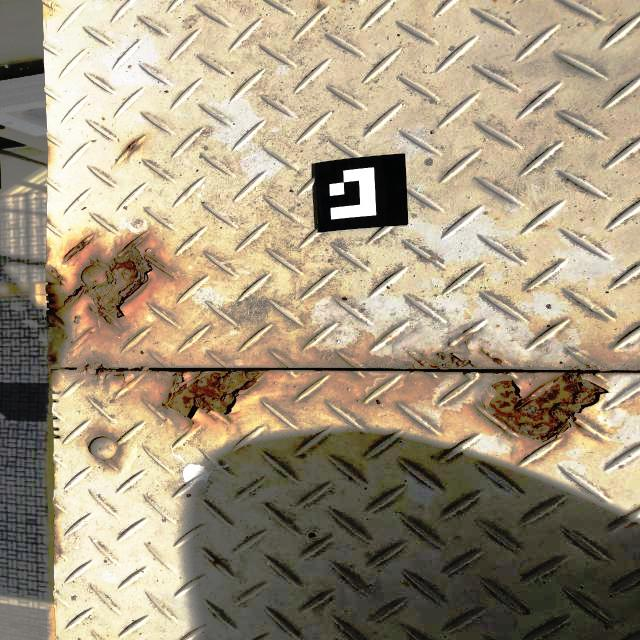Corrosion: (63, 231, 173, 327), (489, 373, 609, 442), (167, 370, 264, 418), (83, 361, 148, 384), (412, 352, 473, 371), (62, 234, 93, 262), (50, 265, 65, 285), (491, 356, 504, 365), (126, 141, 137, 151)
